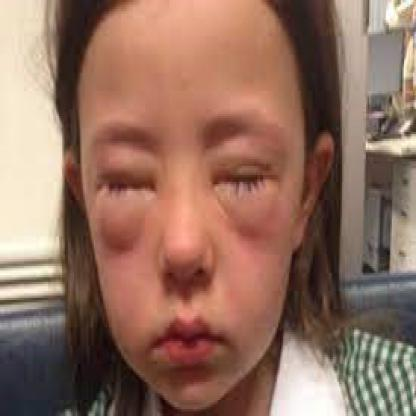Wasp: (205, 132, 290, 239), (90, 141, 158, 252)
